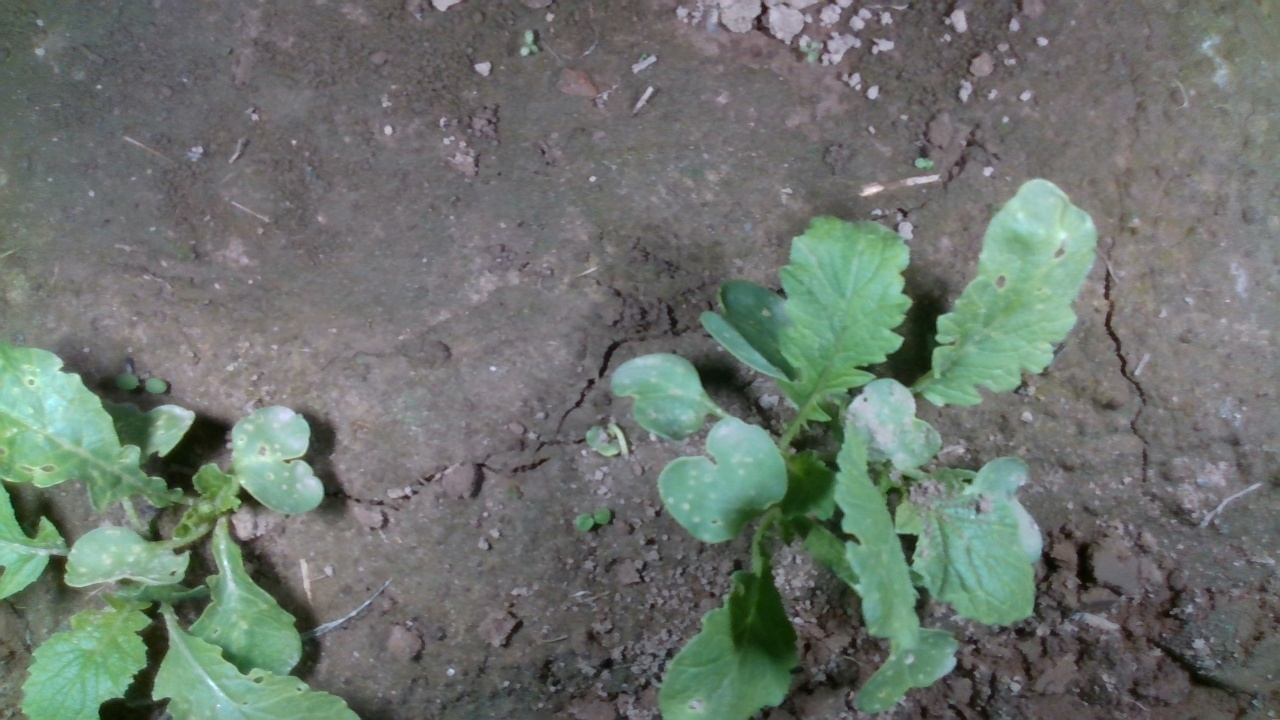weed: (112, 369, 170, 395), (572, 504, 610, 533), (911, 155, 937, 170)
